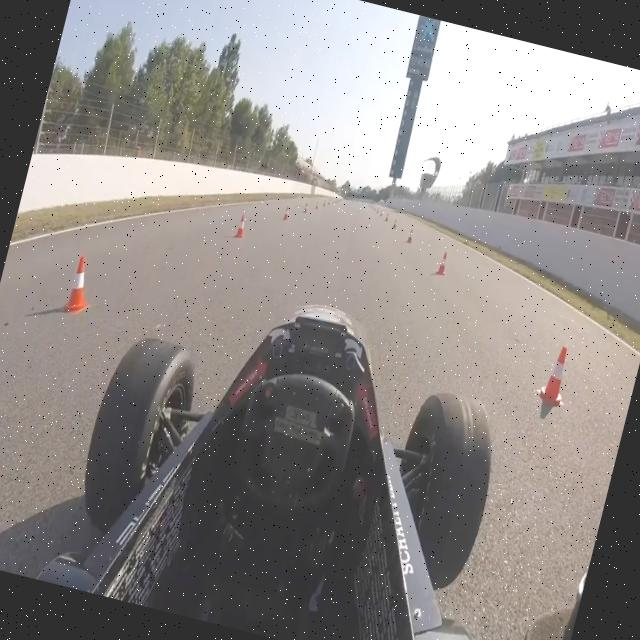orange_cone: (534, 341, 576, 409), (61, 252, 100, 318), (434, 250, 450, 278), (234, 213, 248, 240)
